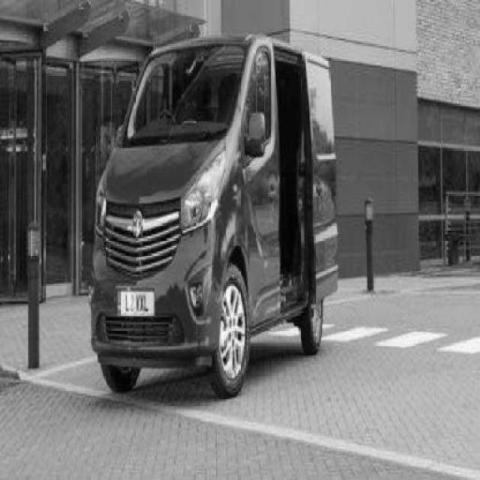van: (93, 34, 334, 396)
